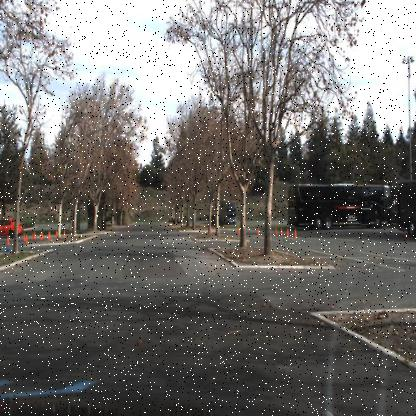car: (1, 218, 24, 239)
truck: (286, 183, 394, 230), (397, 180, 415, 238), (216, 198, 237, 225)
